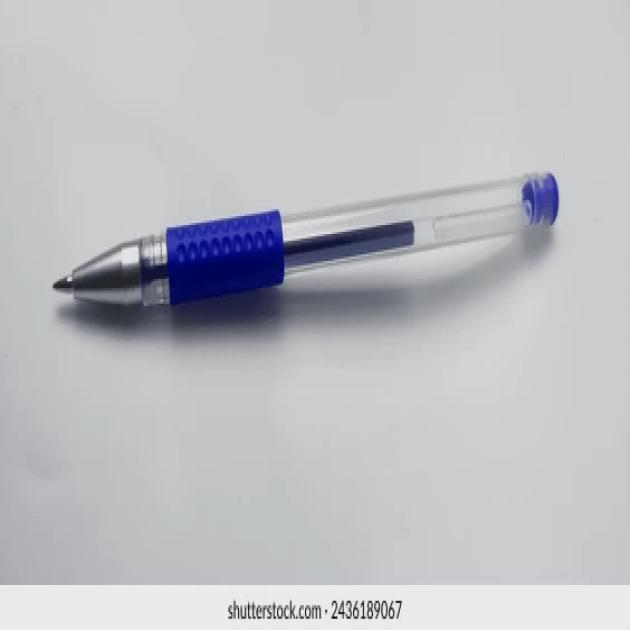pen: (47, 152, 567, 364)
